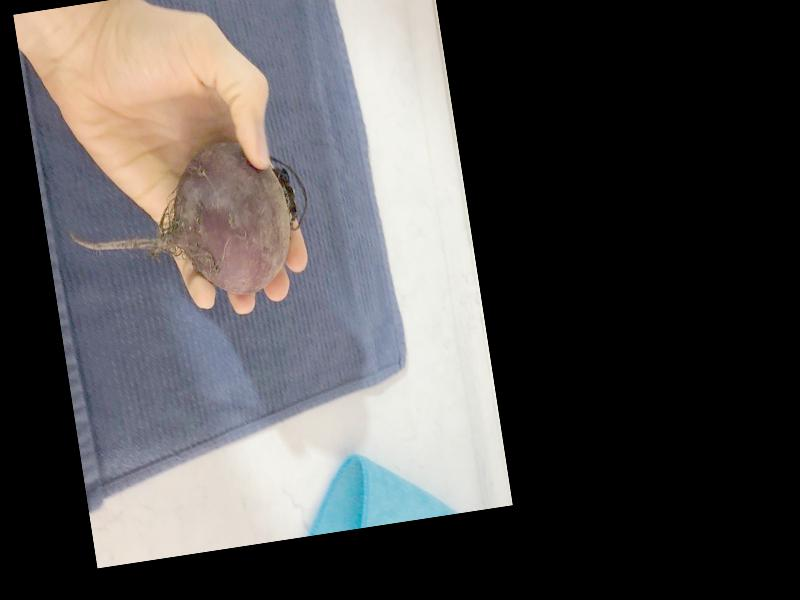Beet: (59, 131, 319, 319)
